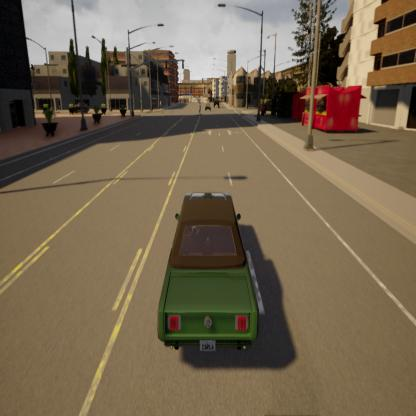Cars: (148, 176, 270, 368), (213, 97, 221, 115), (205, 98, 211, 113)
Pedestrian: (198, 98, 203, 120)
